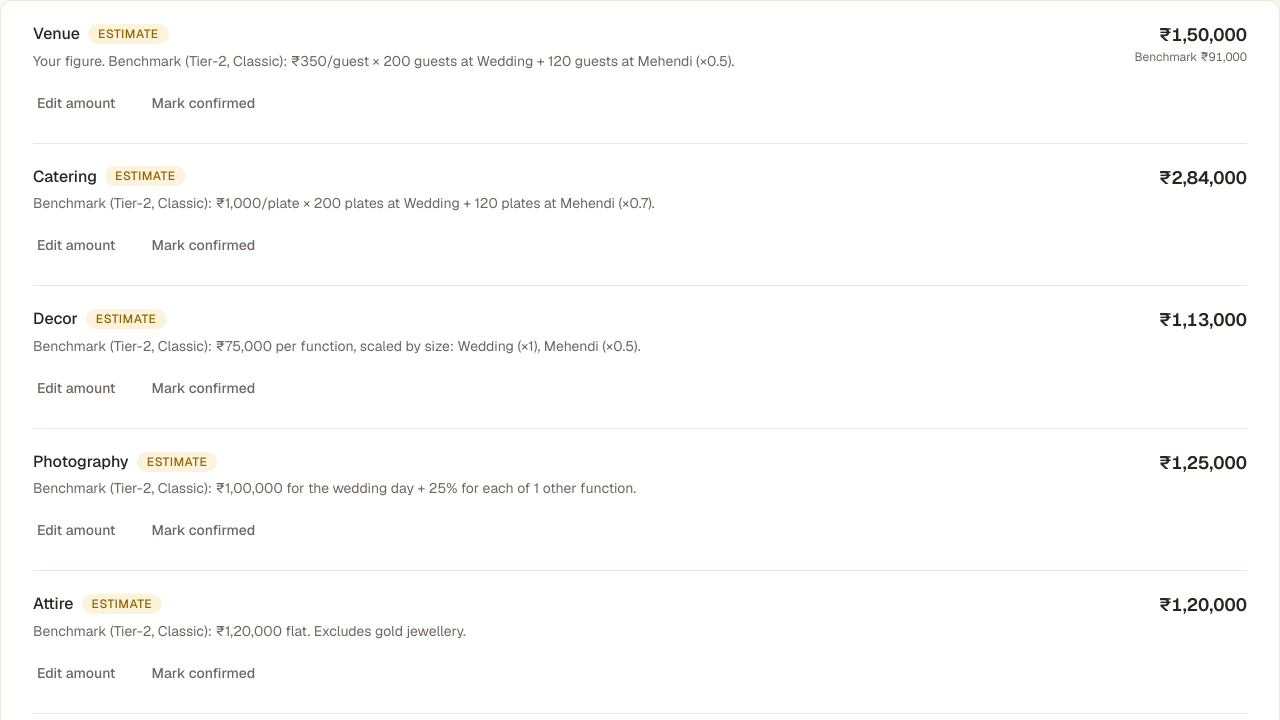
Scenario: BudgetTab › returns a line to its estimate when the override is saved blank
Click the button with aria-label "Edit amount for Venue" at (76, 103), box [21,83,132,123]
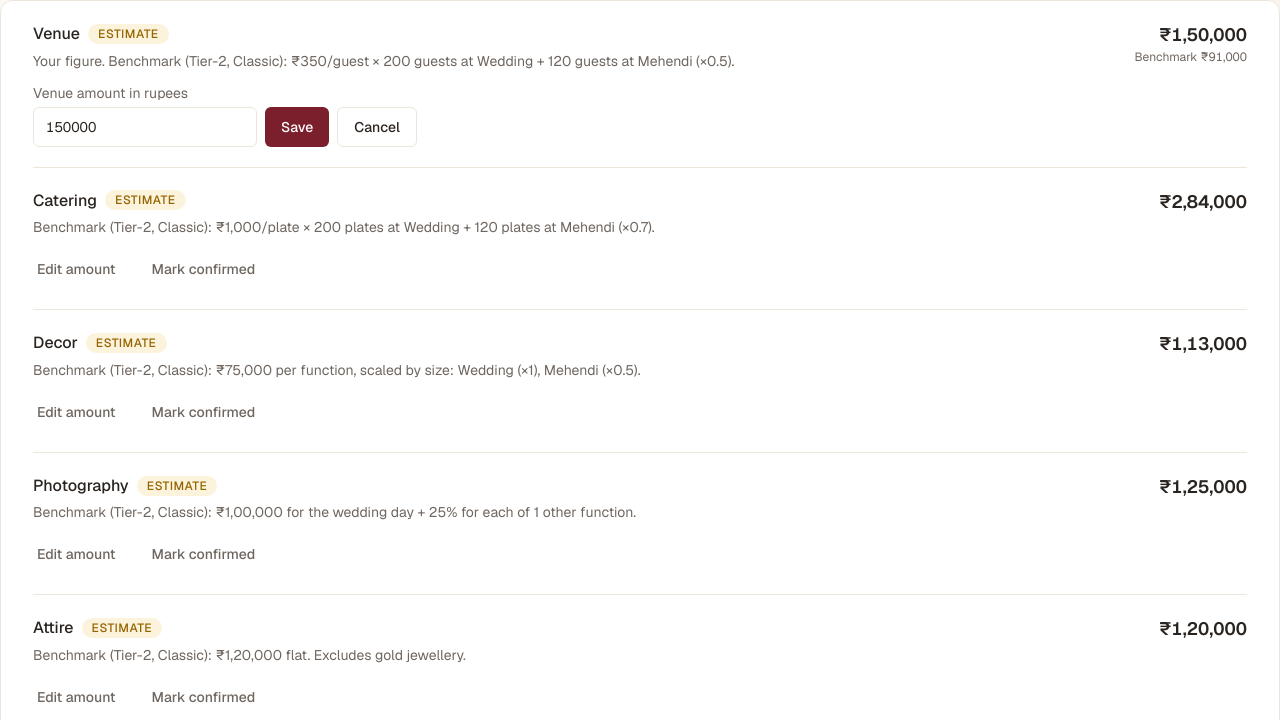
Clear the number field labelled "Venue amount in rupees" at (145, 127), box [33,107,257,147]
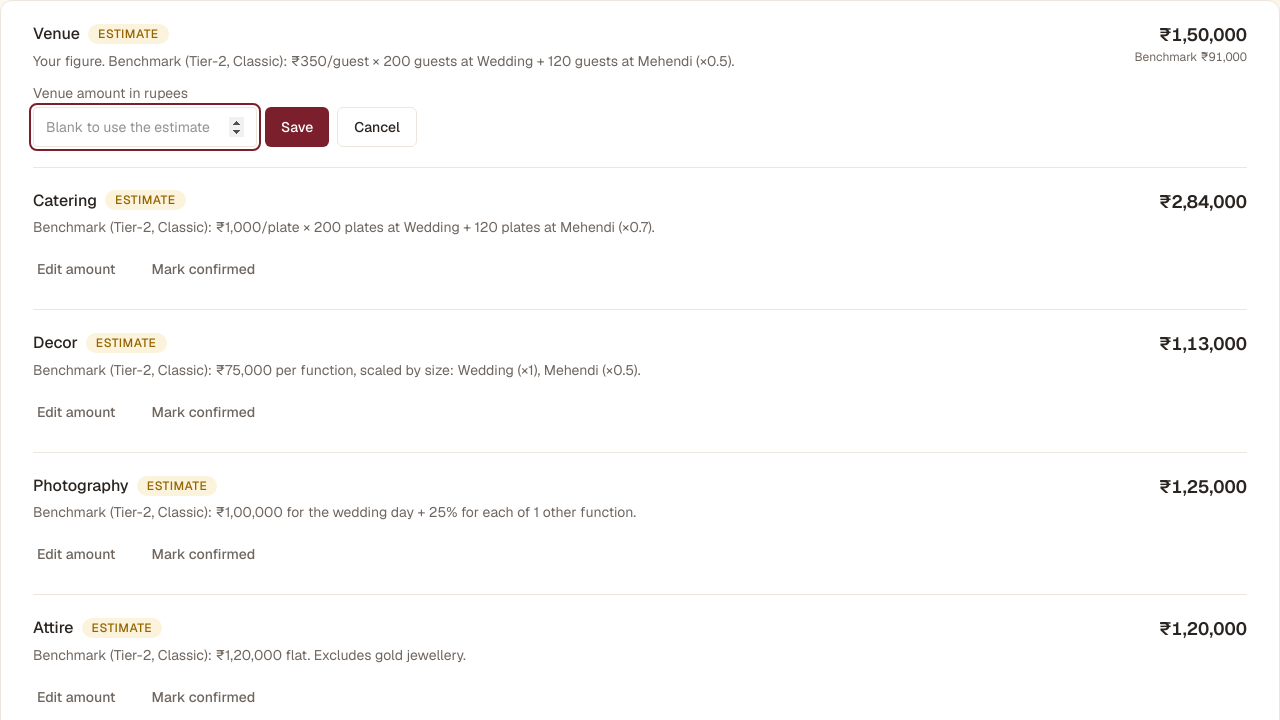
Click the button "Save" at (297, 127), box [265,107,329,147]
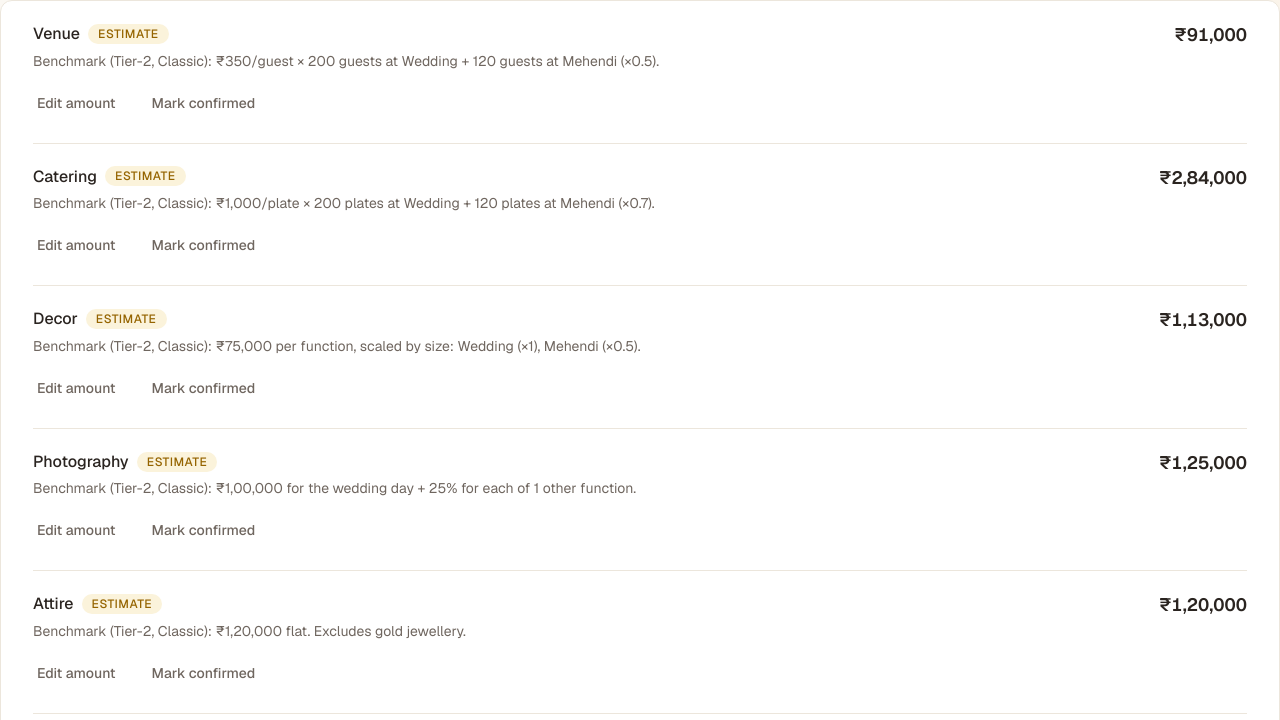
Result: the text "₹91,000" is shown at [1174,21,1247,49]
Result: the text "Benchmark ₹" is gone
